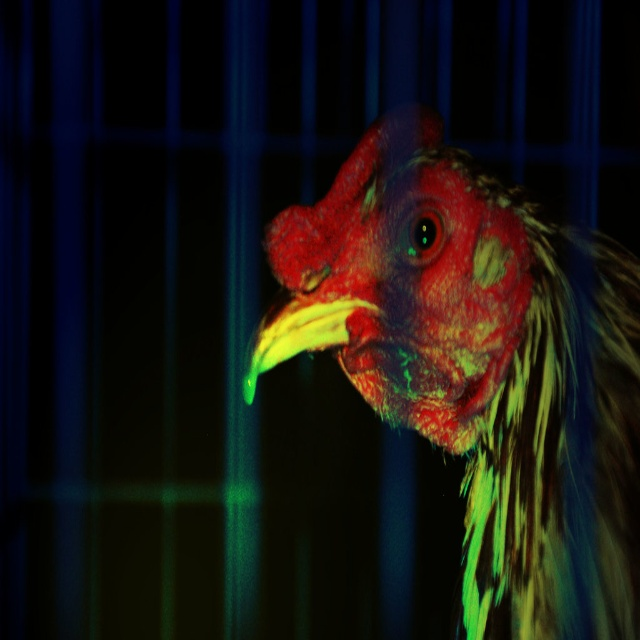Chicken: (252, 109, 640, 617)
